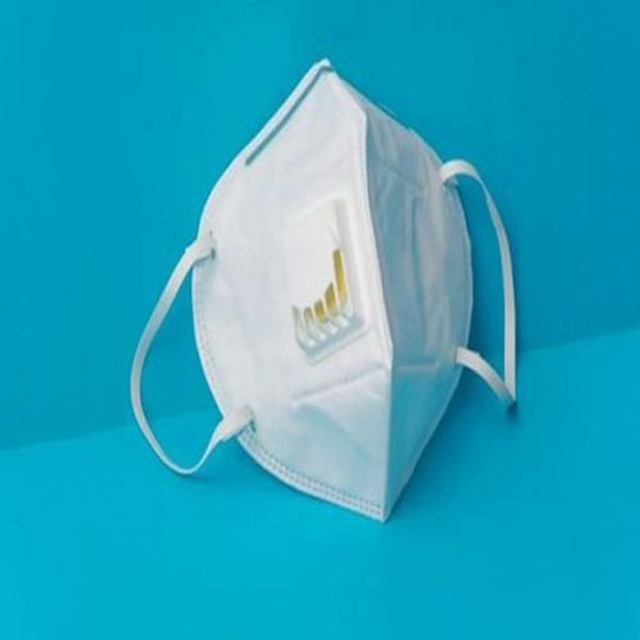mask: (124, 49, 527, 523)
